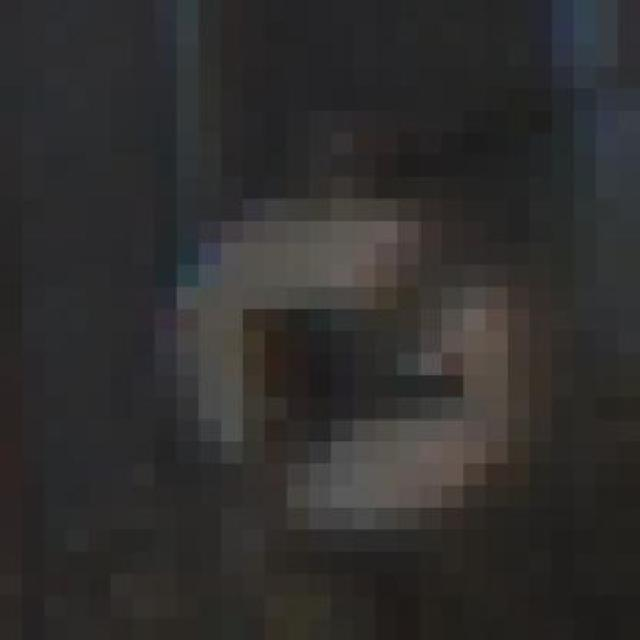Overtaking by trucks is prohibited: (110, 132, 596, 552)
